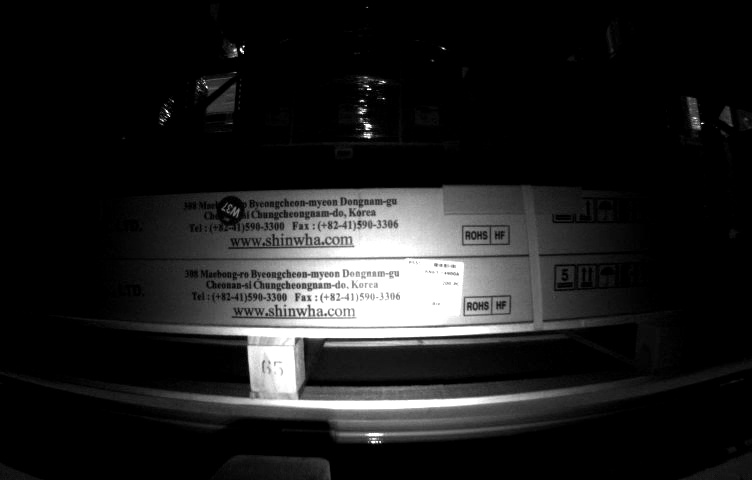True Barcode: (401, 256, 463, 317)
